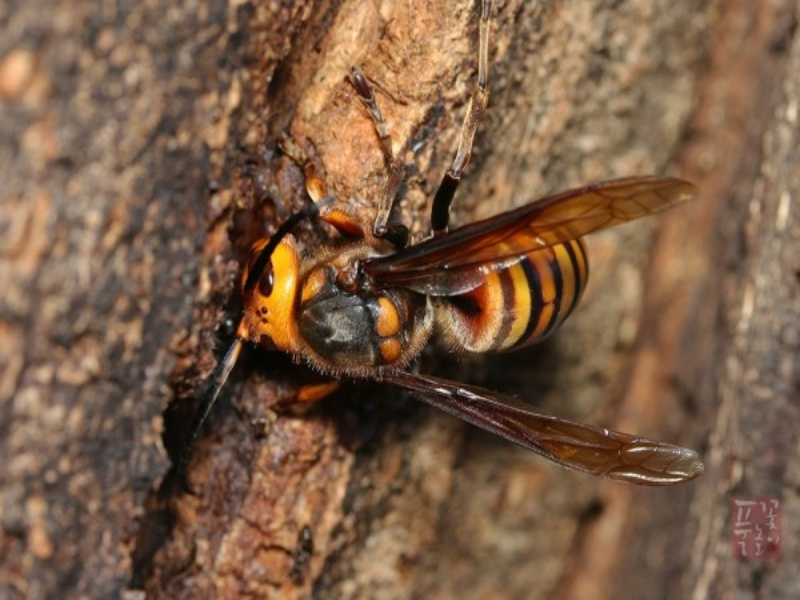asian_giant_hornet: (233, 198, 695, 468)
